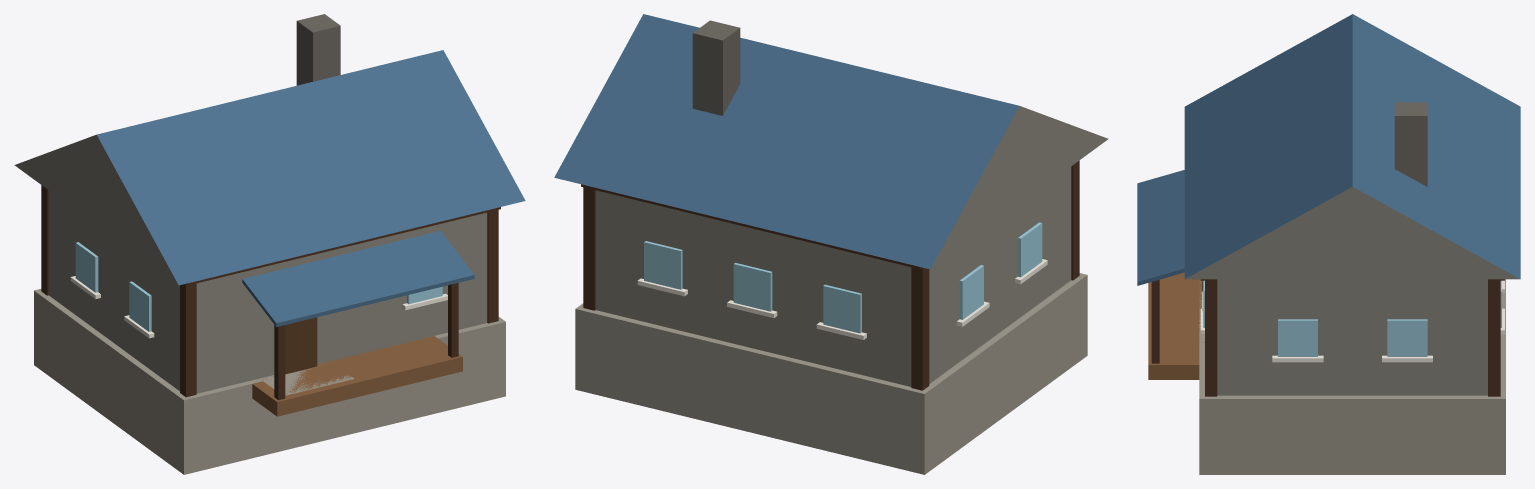
Rendered from fisher_cottage.glb.
The picture shows the model from 3 angles, left to right: view 1: azimuth 30°, elevation 25°; view 2: azimuth 150°, elevation 25°; view 3: azimuth 270°, elevation 25°; orthographic projection. The views are drawn at different scales.
Parts seen in each view (by area): view 1: fisher_cottage-col; view 2: fisher_cottage-col; view 3: fisher_cottage-col.
Boxes of the visible parts, x1=… form: fisher_cottage-col: x1=14, y1=14, x2=525, y2=474; fisher_cottage-col: x1=554, y1=14, x2=1108, y2=474; fisher_cottage-col: x1=1137, y1=14, x2=1520, y2=474.
Bounding box in the file's own units: 11.2 × 9.8 × 10.5.
